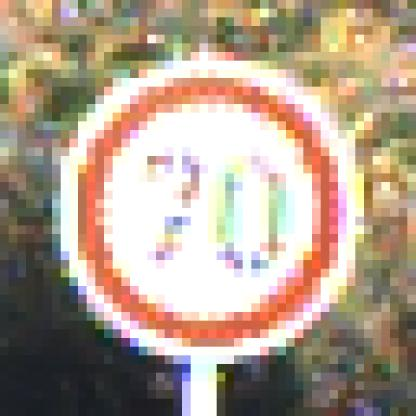Speed Limit 70: (68, 62, 349, 352)
